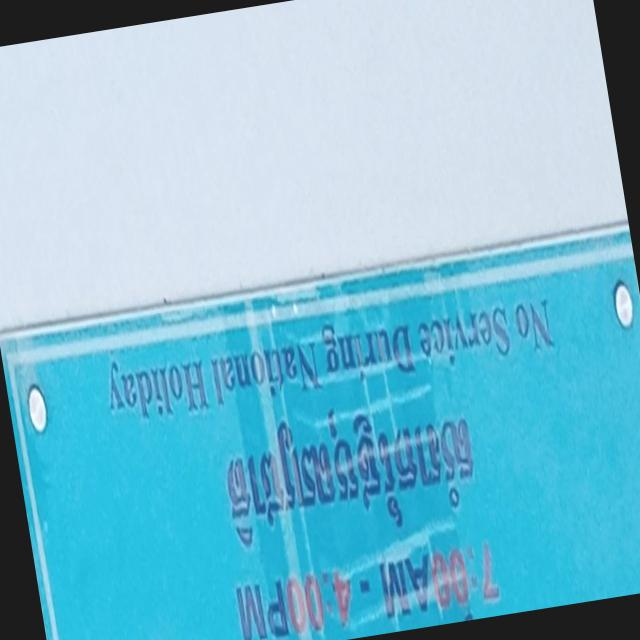Yolov11_80vkh: (199, 380, 495, 573)
